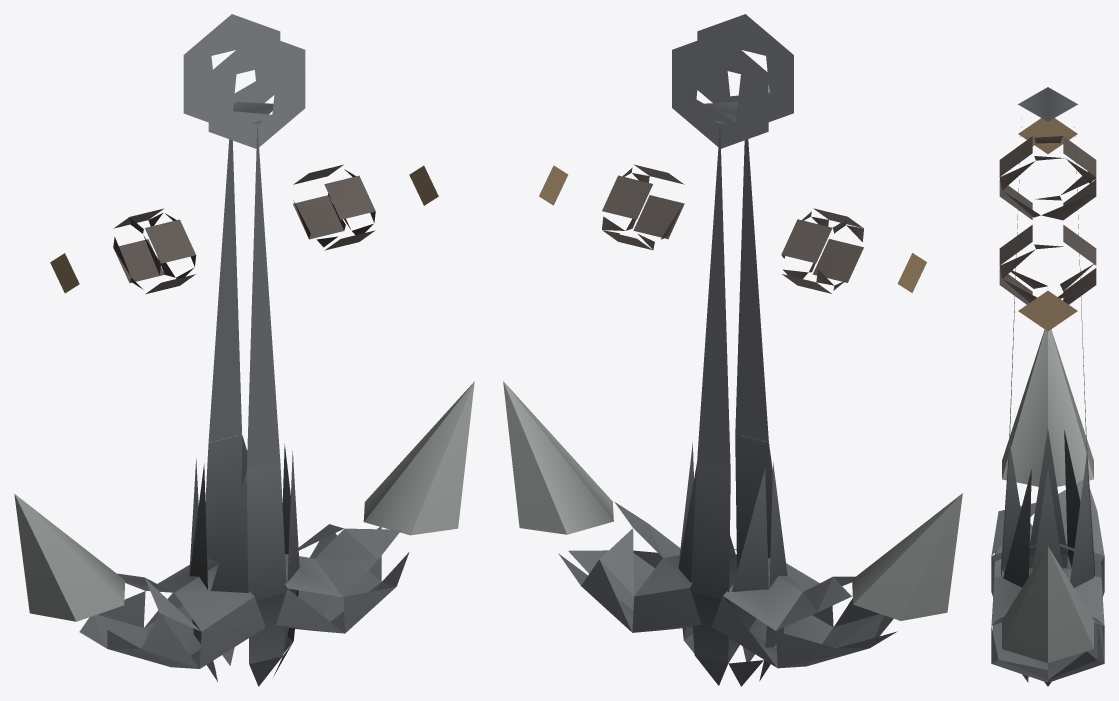
File: anchor.lod.glb
3 renders of one model, left to right at view 1: azimuth 30°, elevation 25°; view 2: azimuth 150°, elevation 25°; view 3: azimuth 270°, elevation 25°, orthographic.
Visible parts, largest first — view 1: anchor; view 2: anchor; view 3: anchor.
Boxes of the visible parts, left/top/right/bottom form: anchor: left=14, top=14, right=474, bottom=686; anchor: left=503, top=14, right=962, bottom=686; anchor: left=991, top=87, right=1104, bottom=686.
Size of the model in its own units: 1.79 by 2.43 by 0.378.
